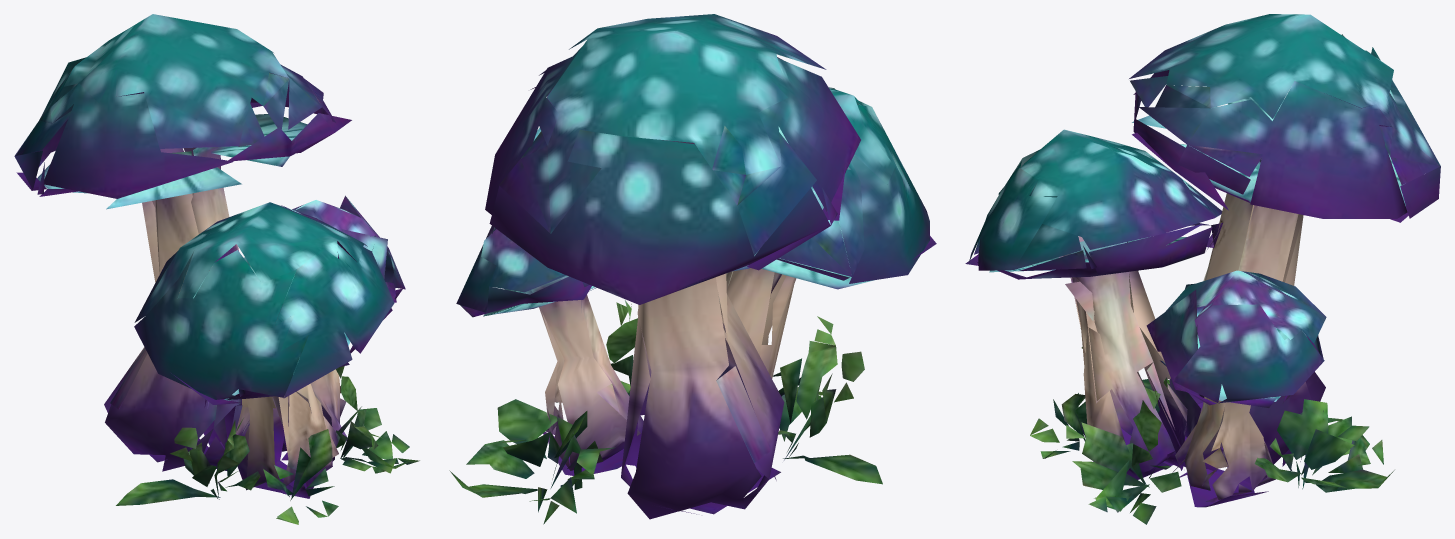
File: p_mushrooms_lo.glb
3 renders of one model, left to right at view 1: azimuth 30°, elevation 25°; view 2: azimuth 150°, elevation 25°; view 3: azimuth 270°, elevation 25°, orthographic. The views are drawn at different scales.
Parts seen in each view (by area): view 1: Mesh_0; view 2: Mesh_0; view 3: Mesh_0.
Boxes of the visible parts, x1,y1,x2,y2 form: Mesh_0: [14, 14, 419, 524]; Mesh_0: [449, 14, 936, 524]; Mesh_0: [965, 14, 1440, 524].
Bounding box in the file's own units: 0.7998 × 0.9952 × 0.9802.
Materials: 1 (1 with a texture image).
